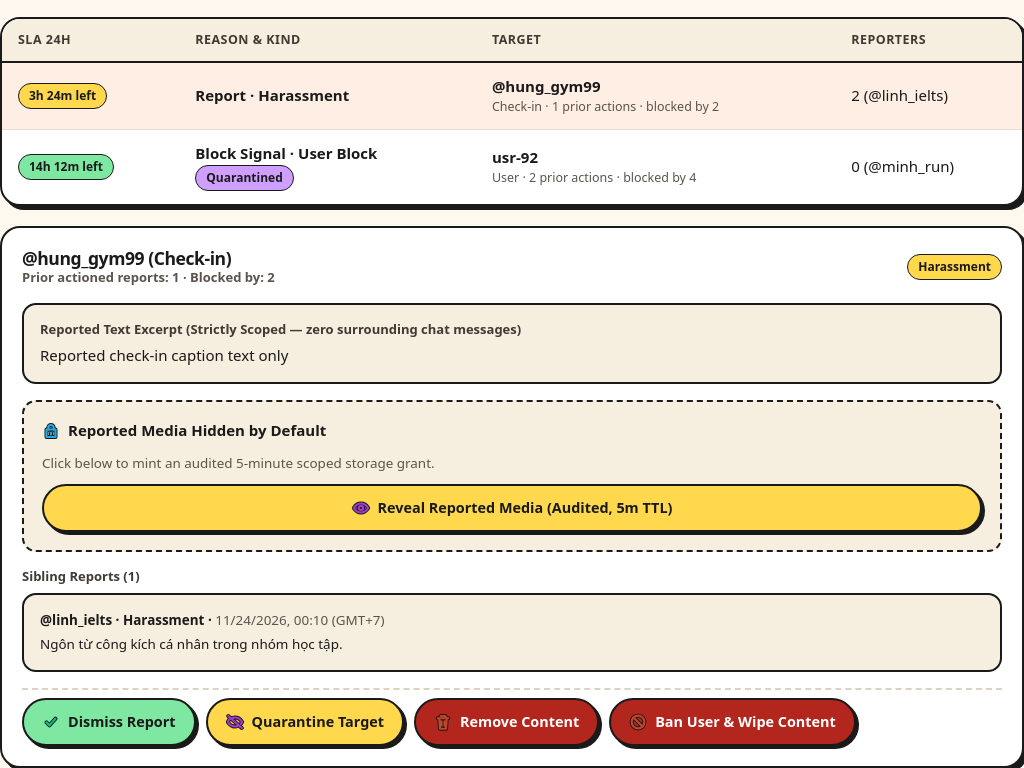
Scenario: ModerationPage & Action Gating (UX-28) › re-fetches detail after quarantining or resolving an item that remains selected in statusFilter="all" (F-15) and shows modal RPC error inside the modal (F-42)
(page scrolled)
Click the button "Quarantine Target": (305, 722) [206, 698, 404, 746]
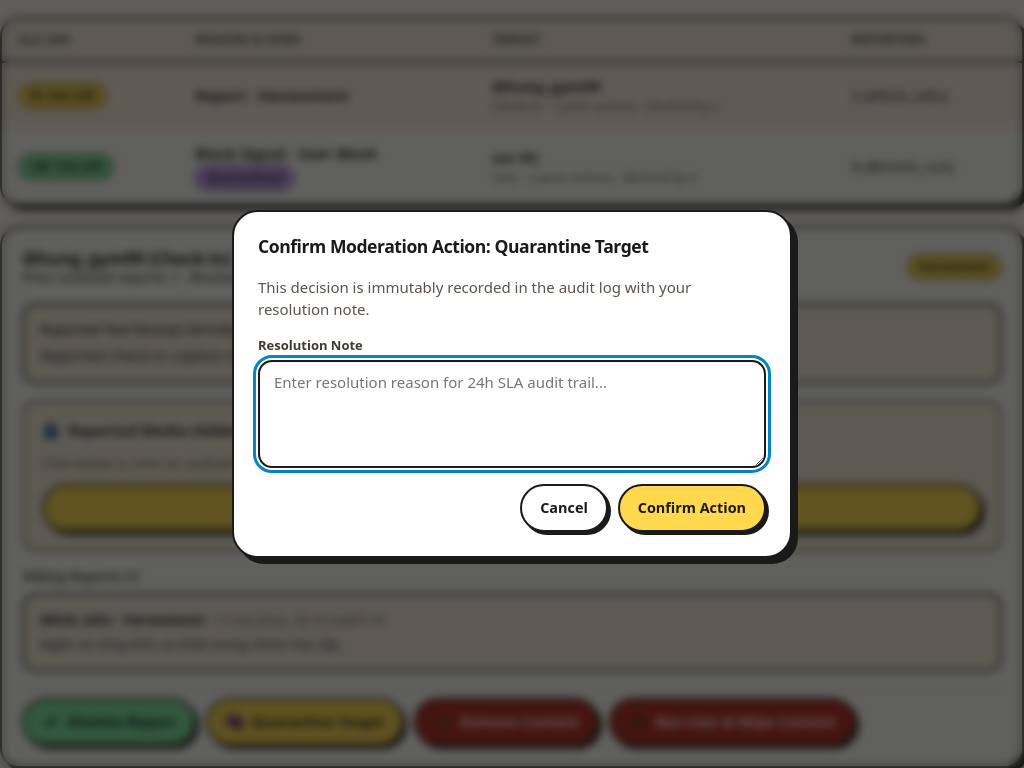
Click the button "Confirm Action": (692, 508) [618, 484, 766, 532]
(page scrolled)
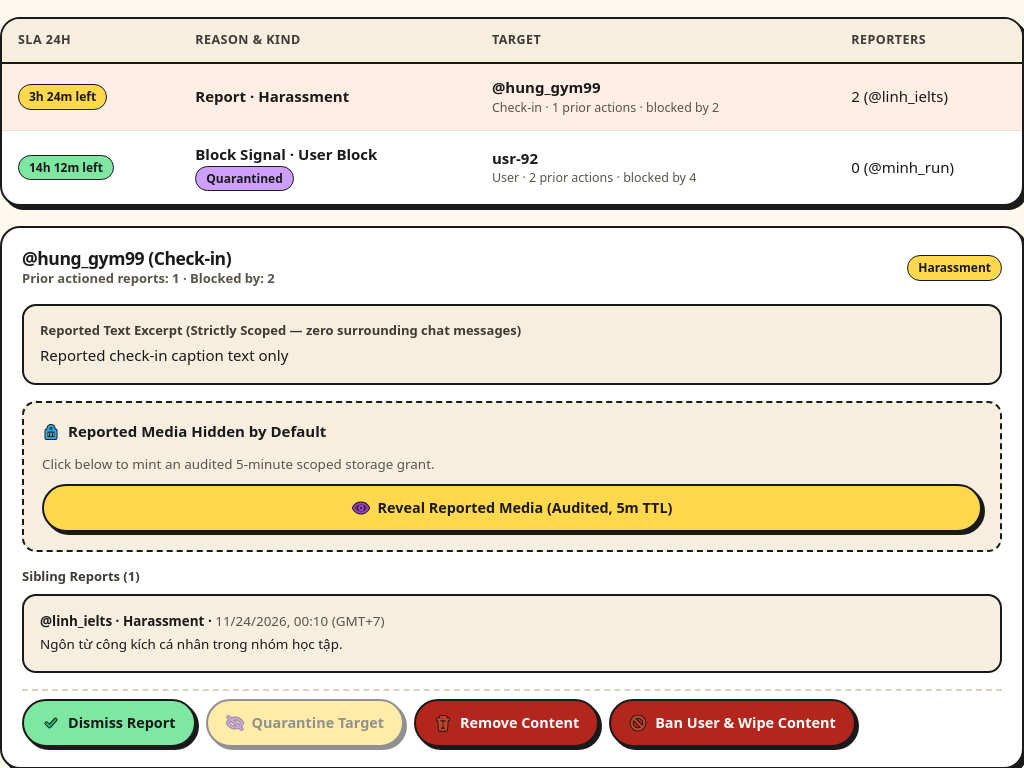
Now the button "Quarantine Target" is disabled, box [206, 699, 404, 747]
Click the button "Dismiss Report": (109, 723) [22, 699, 196, 747]
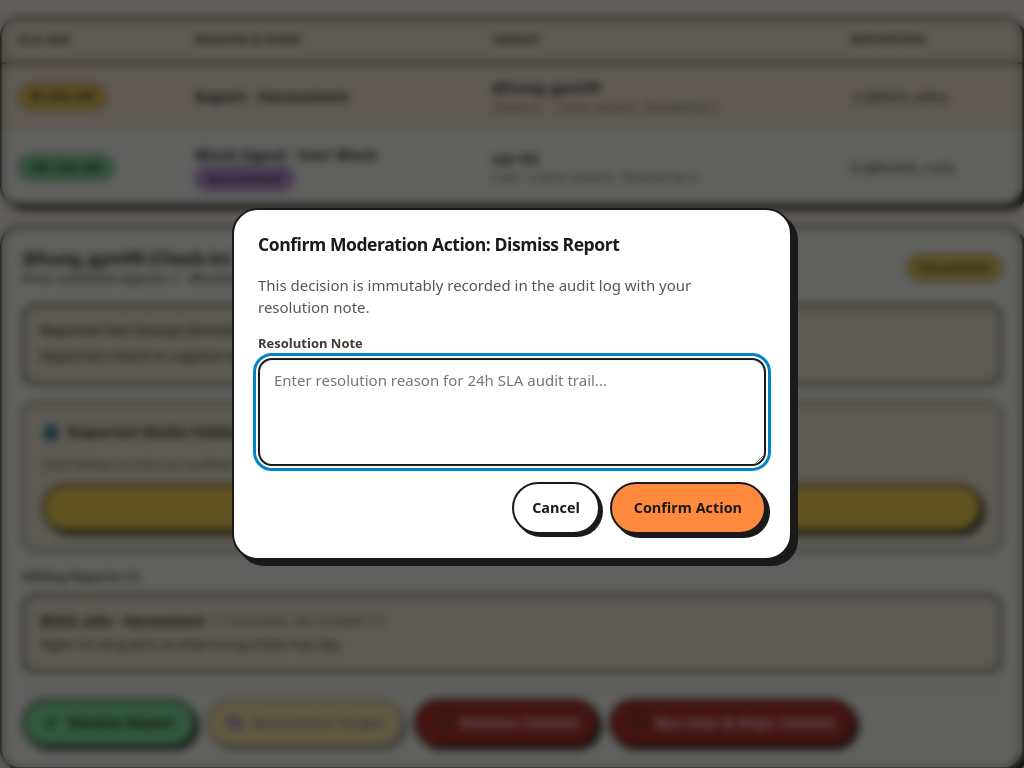
Click the button "Confirm Action": (688, 508) [610, 482, 766, 534]
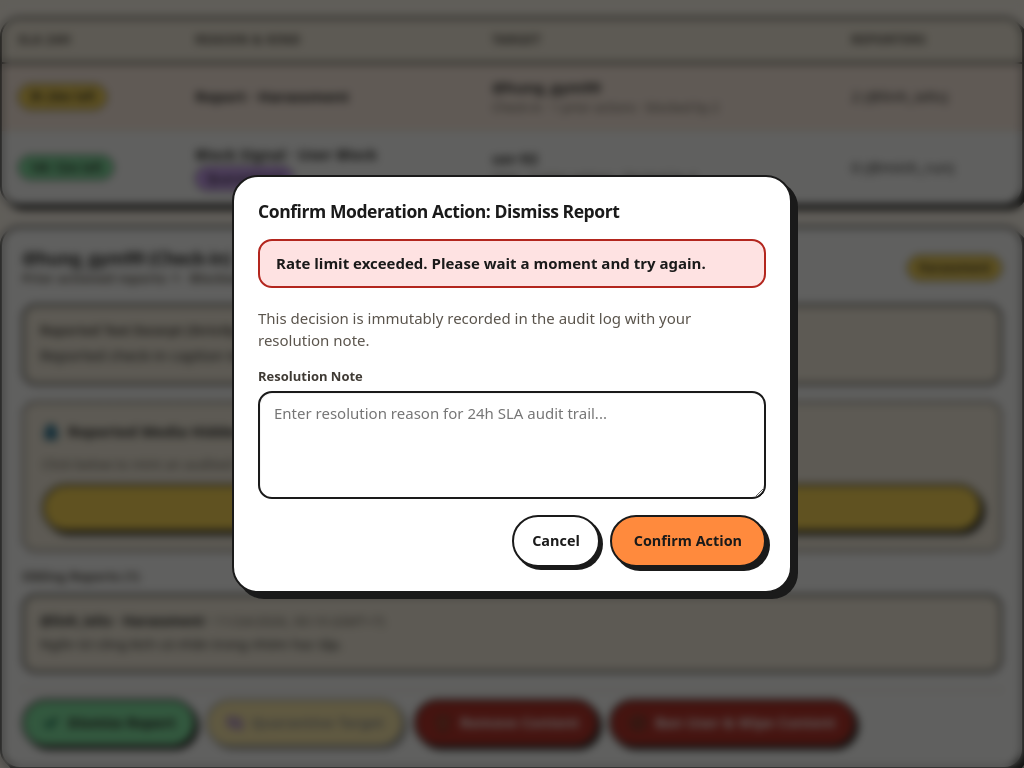
Now the dialog shows "Rate limit exceeded", box [276, 253, 706, 273]
